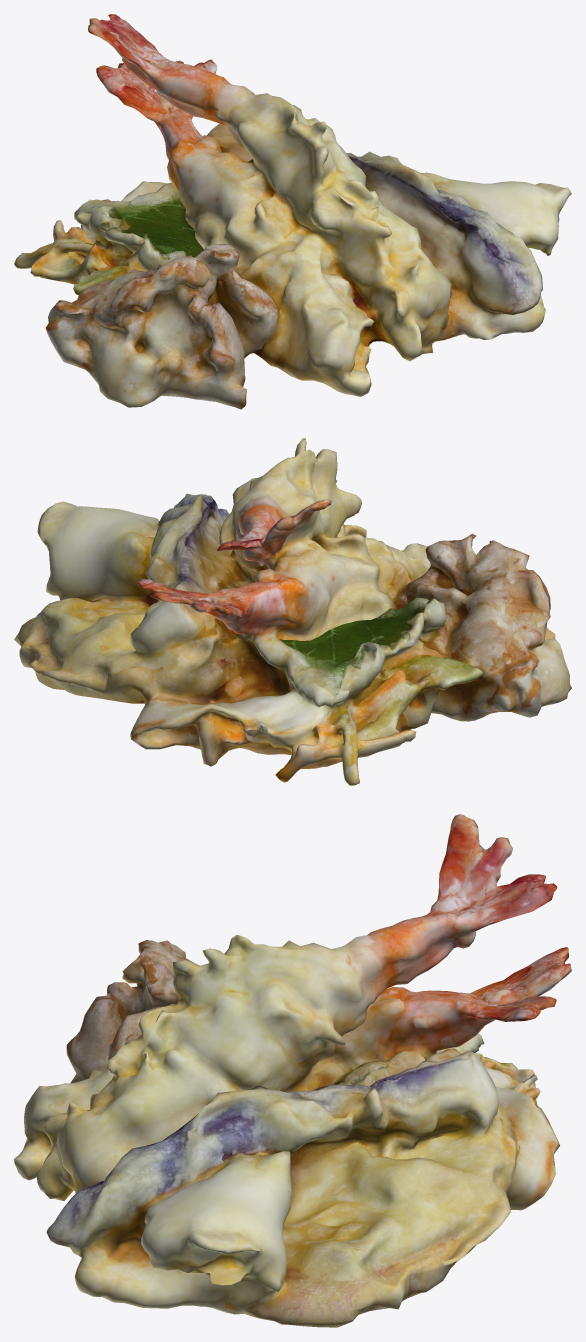
Rendered from ten.fbx.
3 views of the same model, one above another, from view 1: azimuth 30°, elevation 25°; view 2: azimuth 150°, elevation 25°; view 3: azimuth 270°, elevation 25° (orthographic). The views are drawn at different scales.
Parts seen in each view (by area): view 1: ten; view 2: ten; view 3: ten.
Boxes of the visible parts, x1,y1,x2,y2 form: ten: [14, 14, 571, 409]; ten: [14, 438, 571, 785]; ten: [14, 814, 571, 1327].
Size of the model in its own units: 16.64 by 8.27 by 13.42.
